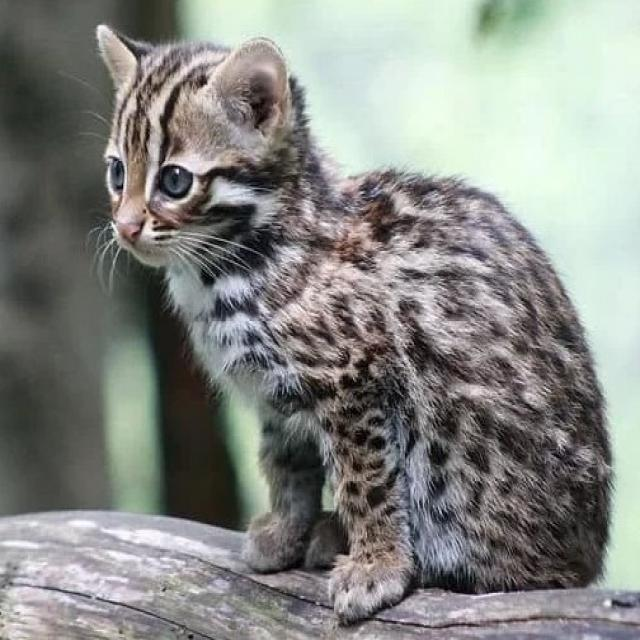leopard: (110, 14, 580, 584)
